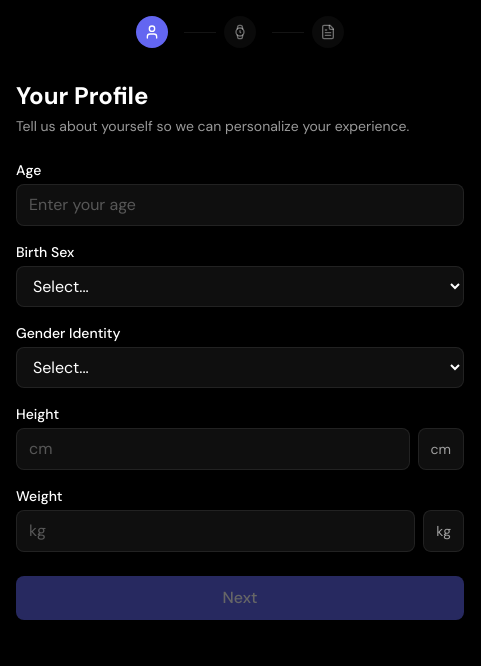
Test: Onboarding wizard › shows reference range selector when birth sex is intersex
Select "Intersex" in the dropdown labelled "Birth Sex" at [240, 286], box [16,266,464,307]
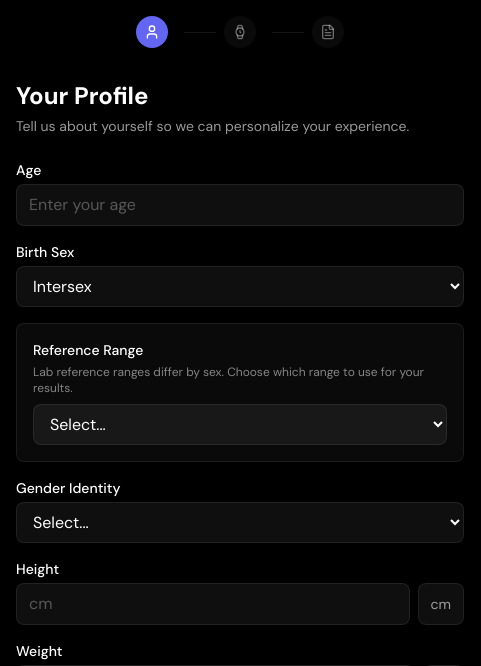
Expected: the dropdown labelled "Reference Range" is shown, [33,404,447,445]
